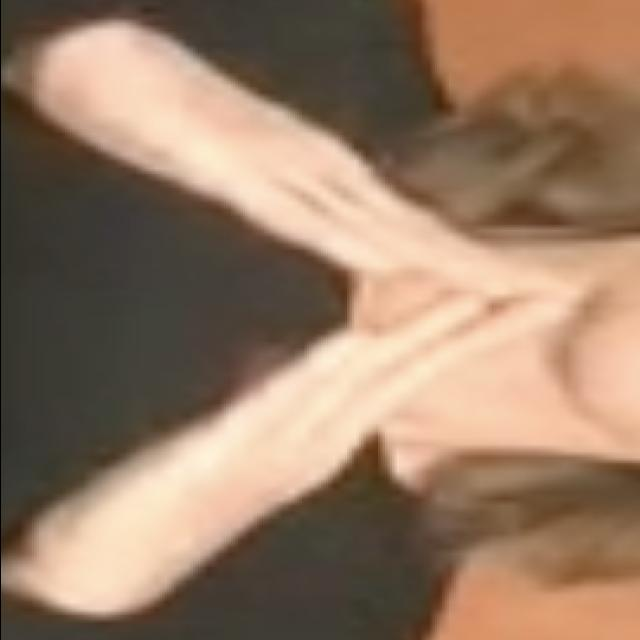casa: (24, 19, 586, 614)
